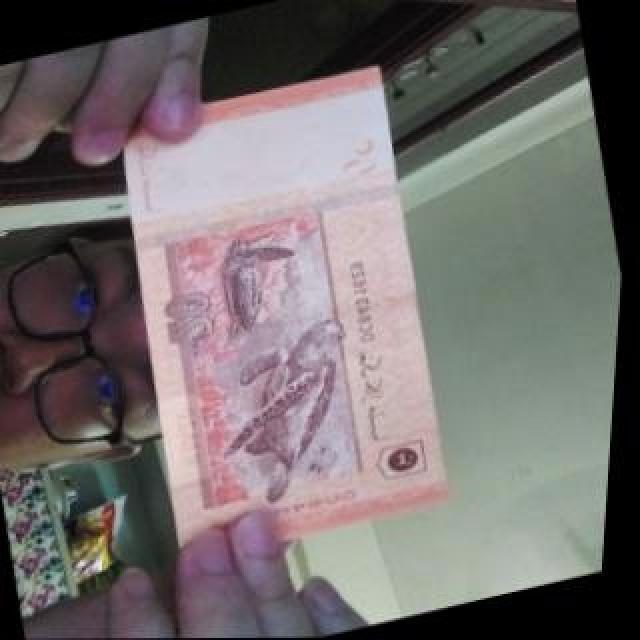20 Ringgit: (92, 64, 482, 568)
